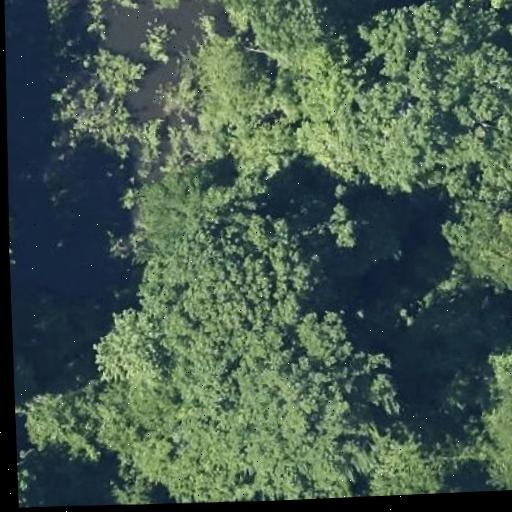tree-top: (143, 347, 364, 506), (143, 213, 309, 371), (347, 1, 469, 191), (282, 44, 363, 176), (448, 36, 512, 196), (187, 32, 277, 135), (436, 190, 512, 310), (20, 372, 104, 463), (365, 420, 459, 496), (122, 164, 209, 245), (91, 303, 163, 392), (477, 338, 512, 491), (294, 294, 361, 367), (246, 0, 332, 52), (311, 197, 375, 253)
